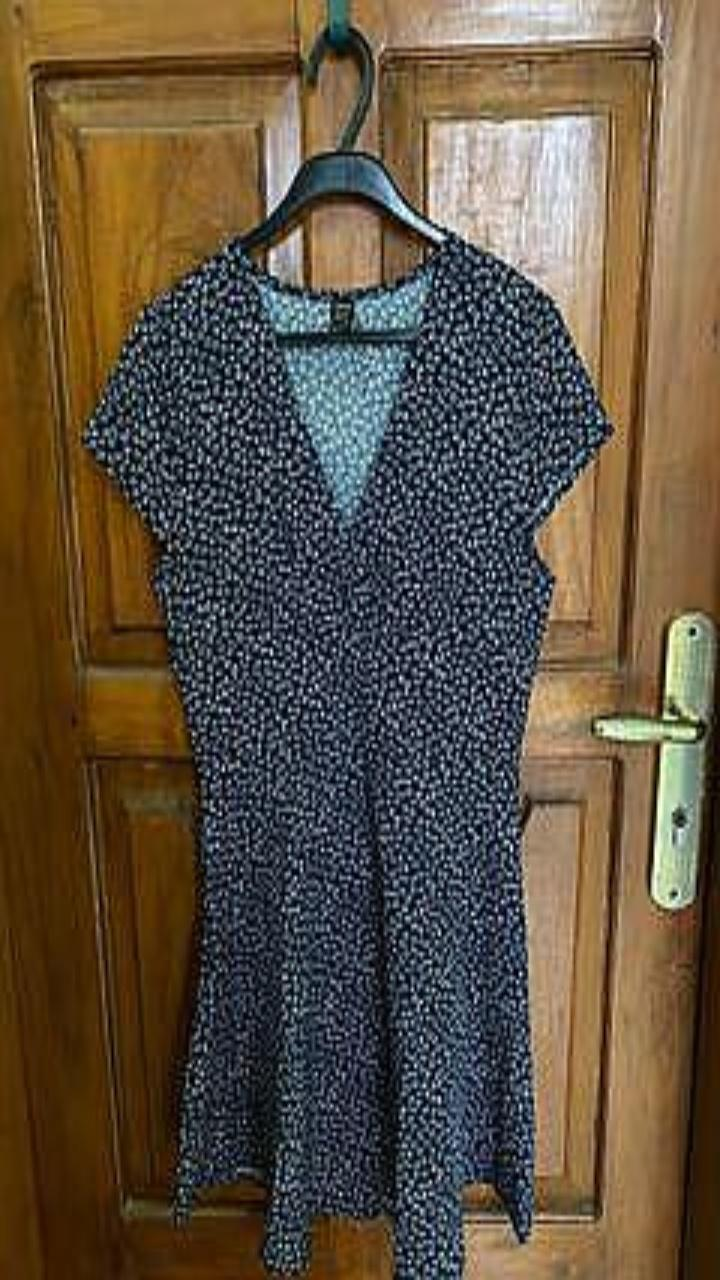T-Shirt: (83, 228, 612, 1279)
